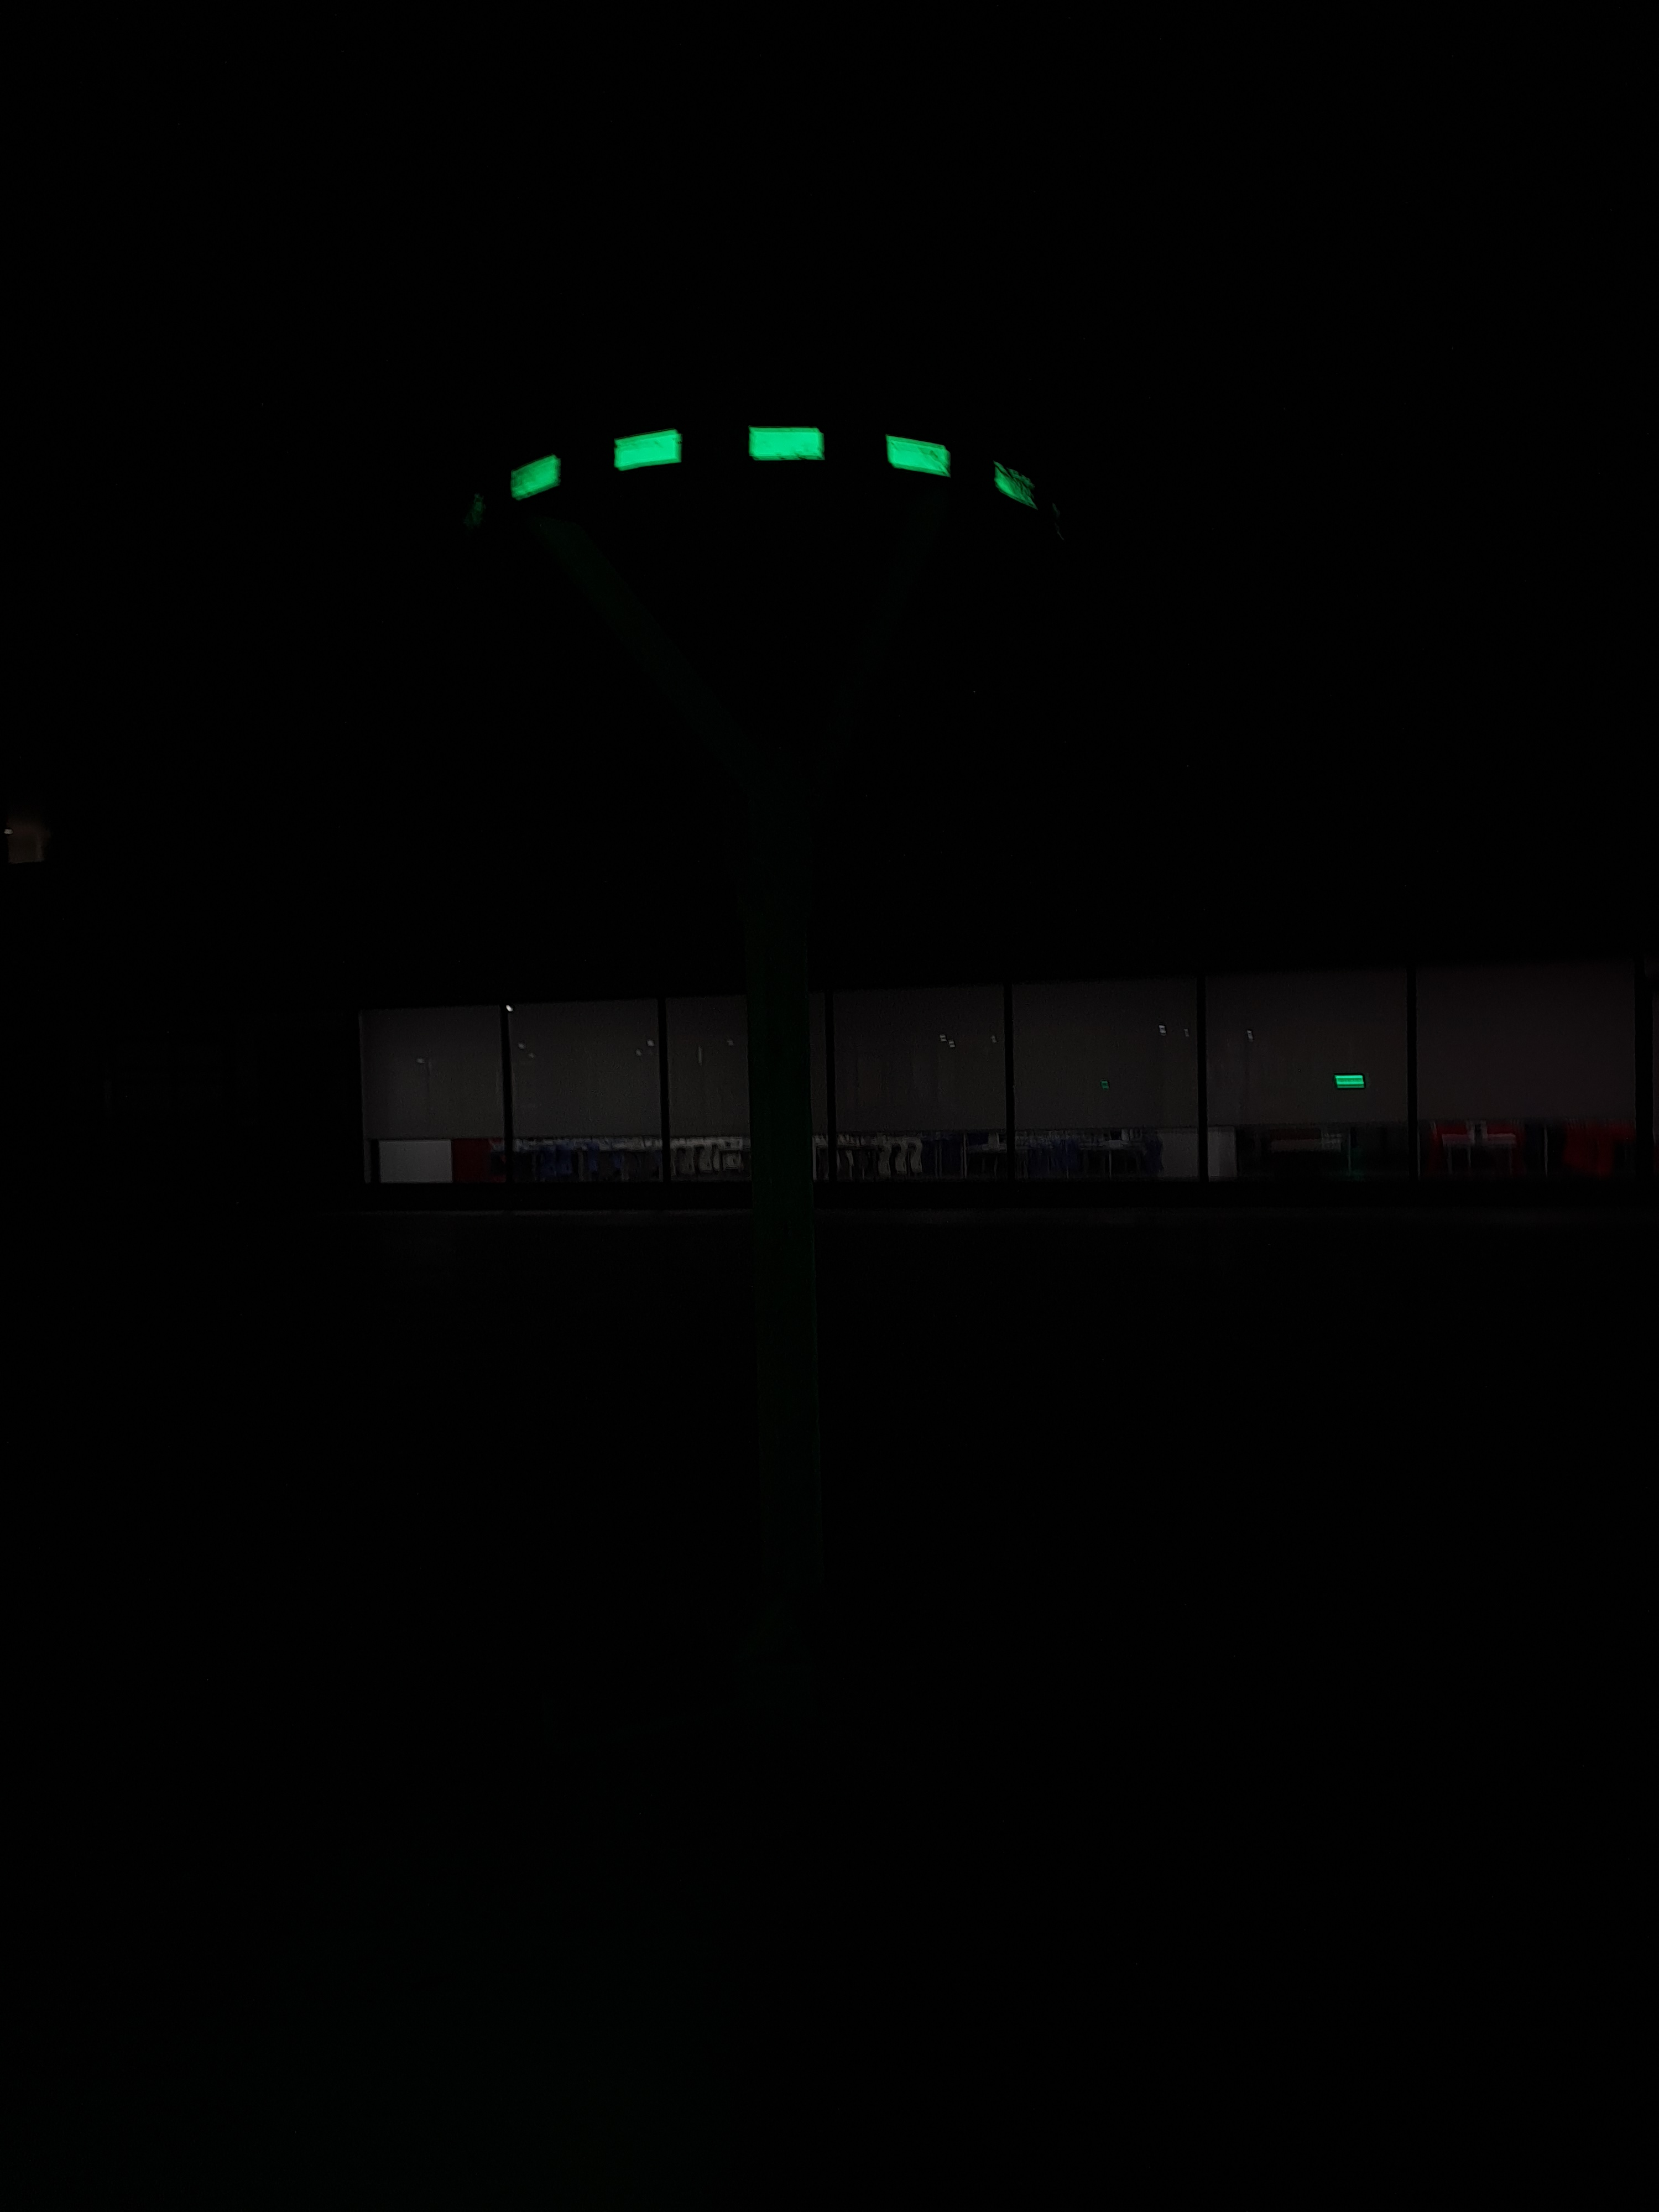hoop: (493, 418, 1040, 516)
